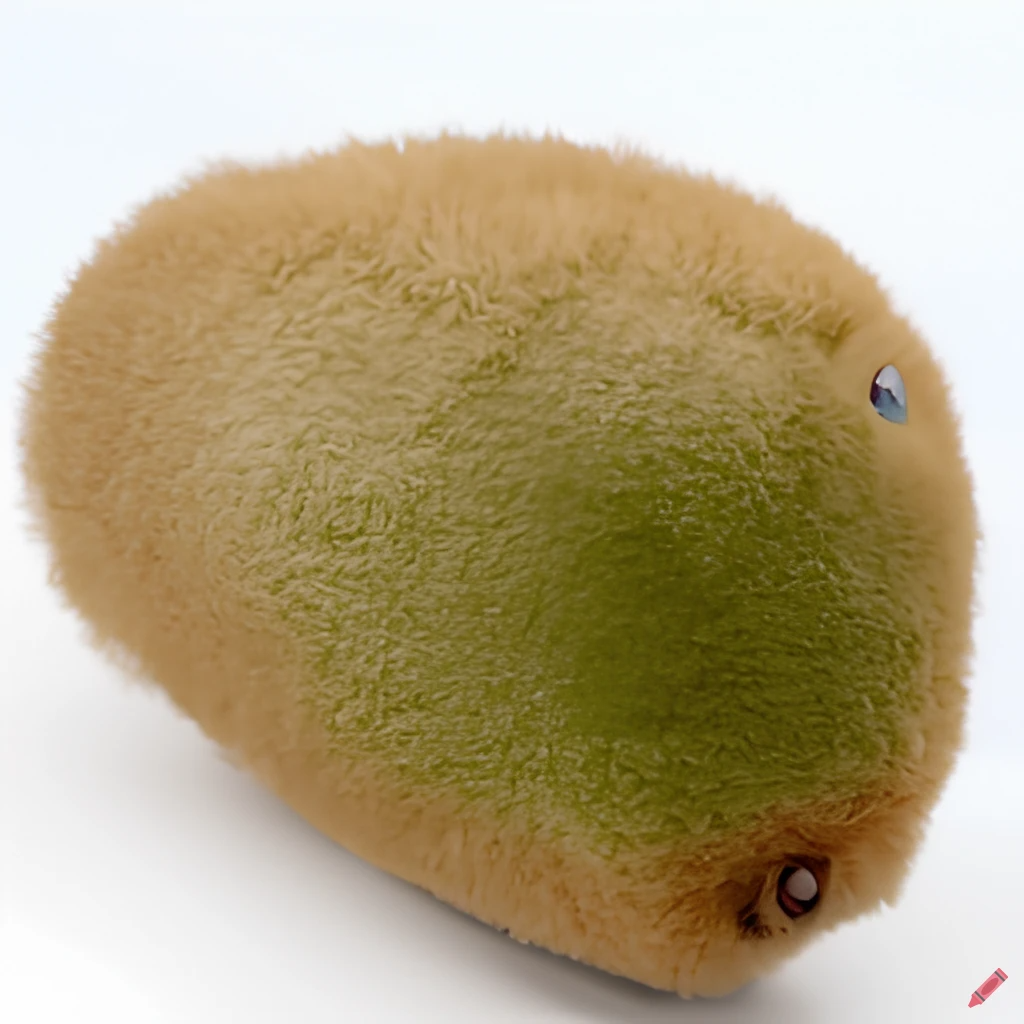Kiwi: (26, 75, 972, 1013)
